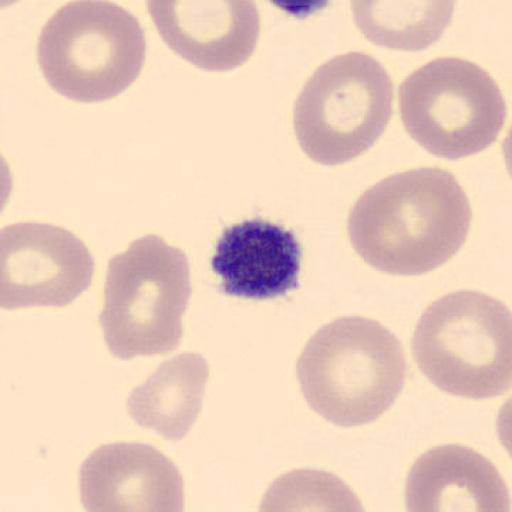Platelet: (207, 214, 306, 304)
RBC: (345, 165, 474, 281), (293, 313, 408, 430), (99, 232, 193, 362), (397, 54, 508, 164), (291, 50, 395, 167), (34, 0, 148, 106), (409, 286, 511, 402), (1, 220, 97, 312), (144, 1, 262, 74), (124, 350, 212, 443), (76, 438, 186, 512), (402, 440, 512, 512), (348, 0, 457, 54), (256, 465, 368, 512), (493, 391, 512, 457), (499, 106, 512, 187), (0, 145, 14, 220)
